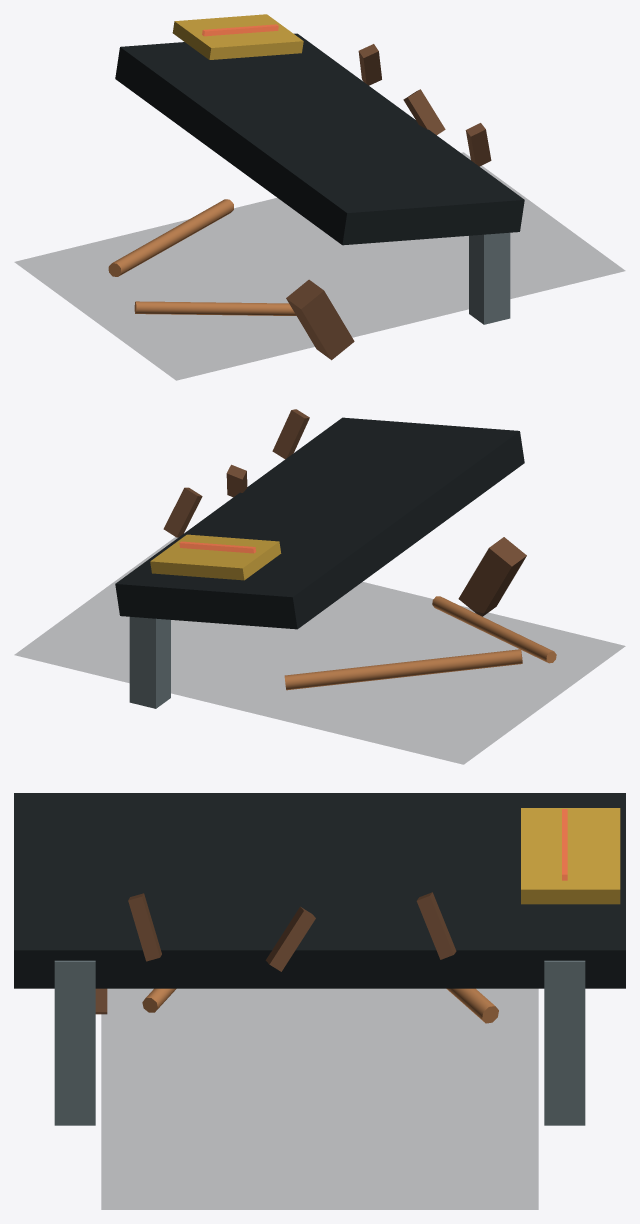
Rendered from hp_room_rm_maint_broken_cradle.glb.
3 views of the same model, one above another, from view 1: azimuth 30°, elevation 25°; view 2: azimuth 150°, elevation 25°; view 3: azimuth 270°, elevation 25° (orthographic). The views are drawn at different scales.
Parts seen in each view (by area): view 1: contact_shadow, cradle_bed, headrest_plate, leg_intact_b, leg_collapsed, spill_cable_a, spill_cable_b, strap_stub_0.1, strap_stub_0.6, strap_stub_-0.4, vitals_dead_line; view 2: contact_shadow, cradle_bed, headrest_plate, spill_cable_a, leg_intact, leg_collapsed, spill_cable_b, strap_stub_-0.4, strap_stub_0.6, strap_stub_0.1, vitals_dead_line; view 3: cradle_bed, contact_shadow, headrest_plate, leg_intact, leg_intact_b, strap_stub_0.1, strap_stub_-0.4, strap_stub_0.6, spill_cable_a.
Boxes of the visible parts, left/top/right/bottom form: contact_shadow: left=15, top=152, right=624, bottom=380; cradle_bed: left=115, top=33, right=524, bottom=245; headrest_plate: left=172, top=14, right=303, bottom=59; leg_intact_b: left=469, top=232, right=510, bottom=324; leg_collapsed: left=286, top=279, right=354, bottom=360; spill_cable_a: left=108, top=199, right=233, bottom=276; spill_cable_b: left=134, top=301, right=296, bottom=315; strap_stub_0.1: left=403, top=89, right=445, bottom=135; strap_stub_0.6: left=465, top=123, right=491, bottom=166; strap_stub_-0.4: left=358, top=44, right=381, bottom=85; vitals_dead_line: left=202, top=24, right=278, bottom=36; contact_shadow: left=15, top=537, right=624, bottom=764; cradle_bed: left=115, top=417, right=524, bottom=629; headrest_plate: left=150, top=534, right=281, bottom=580; spill_cable_a: left=284, top=649, right=522, bottom=690; leg_intact: left=129, top=617, right=170, bottom=708; leg_collapsed: left=458, top=537, right=526, bottom=616; spill_cable_b: left=432, top=596, right=556, bottom=663; strap_stub_-0.4: left=163, top=487, right=202, bottom=537; strap_stub_0.6: left=272, top=409, right=309, bottom=459; strap_stub_0.1: left=226, top=464, right=247, bottom=497; vitals_dead_line: left=179, top=541, right=255, bottom=553; cradle_bed: left=14, top=793, right=625, bottom=988; contact_shadow: left=101, top=989, right=538, bottom=1209; headrest_plate: left=521, top=808, right=620, bottom=904; leg_intact: left=544, top=960, right=585, bottom=1125; leg_intact_b: left=54, top=960, right=95, bottom=1125; strap_stub_0.1: left=265, top=906, right=315, bottom=971; strap_stub_-0.4: left=416, top=892, right=456, bottom=959; strap_stub_0.6: left=128, top=893, right=161, bottom=961; spill_cable_a: left=446, top=988, right=498, bottom=1023.
Bounding box in the file's own units: 2.4 × 0.9194 × 2.1.
